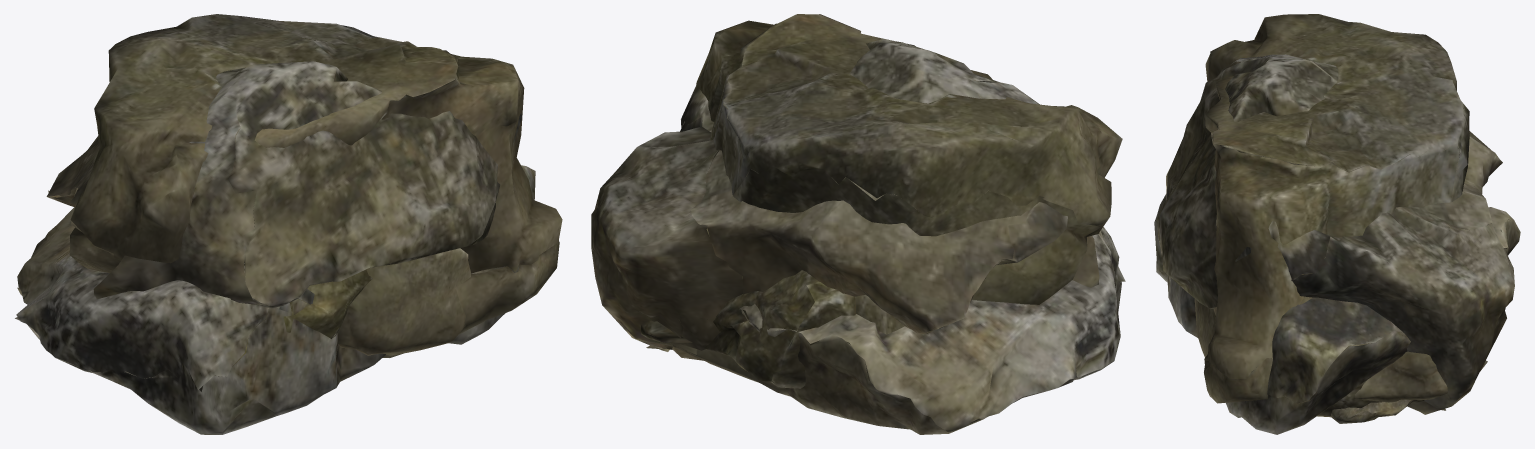
The model's file is rock_moss_set_02_LOD1.fbx.
The picture shows the model from 3 angles, left to right: view 1: azimuth 30°, elevation 25°; view 2: azimuth 150°, elevation 25°; view 3: azimuth 270°, elevation 25°; orthographic projection. The views are drawn at different scales.
Visible parts, largest first — view 1: rock_moss_set_02_rock13.002, rock_moss_set_02_rock11.002, rock_moss_set_02_rock10.002, rock_moss_set_02_rock07.002, rock_moss_set_02_rock12.002; view 2: rock_moss_set_02_rock13.002, rock_moss_set_02_rock11.002, rock_moss_set_02_rock10.002, rock_moss_set_02_rock12.002, rock_moss_set_02_rock07.002; view 3: rock_moss_set_02_rock13.002, rock_moss_set_02_rock11.002, rock_moss_set_02_rock10.002, rock_moss_set_02_rock07.002, rock_moss_set_02_rock09.002, rock_moss_set_02_rock12.002.
Boxes of the visible parts, x1,y1,x2,y2 form: rock_moss_set_02_rock13.002: (69, 14, 562, 357); rock_moss_set_02_rock11.002: (46, 61, 522, 309); rock_moss_set_02_rock10.002: (15, 165, 535, 434); rock_moss_set_02_rock07.002: (332, 248, 470, 355); rock_moss_set_02_rock12.002: (182, 269, 372, 366); rock_moss_set_02_rock13.002: (696, 14, 1122, 304); rock_moss_set_02_rock11.002: (591, 39, 1099, 360); rock_moss_set_02_rock10.002: (739, 227, 1125, 434); rock_moss_set_02_rock12.002: (641, 270, 856, 388); rock_moss_set_02_rock07.002: (671, 228, 910, 398); rock_moss_set_02_rock13.002: (1204, 14, 1469, 403); rock_moss_set_02_rock11.002: (1156, 54, 1514, 414); rock_moss_set_02_rock10.002: (1154, 194, 1520, 434); rock_moss_set_02_rock07.002: (1194, 299, 1447, 402); rock_moss_set_02_rock09.002: (1330, 399, 1414, 423); rock_moss_set_02_rock12.002: (1310, 308, 1505, 417).
Size of the model in its own units: 2.2 by 1.31 by 1.55.
Materials: 1 (1 with a texture image).
